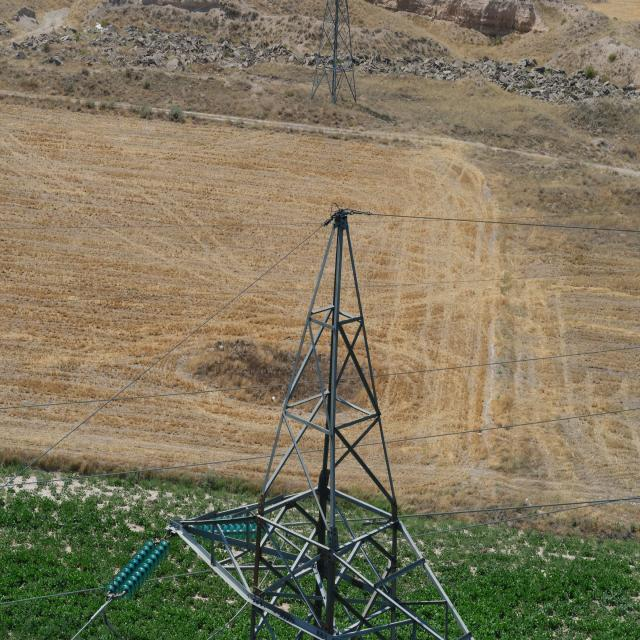direk: (164, 216, 472, 640), (311, 0, 361, 104)
